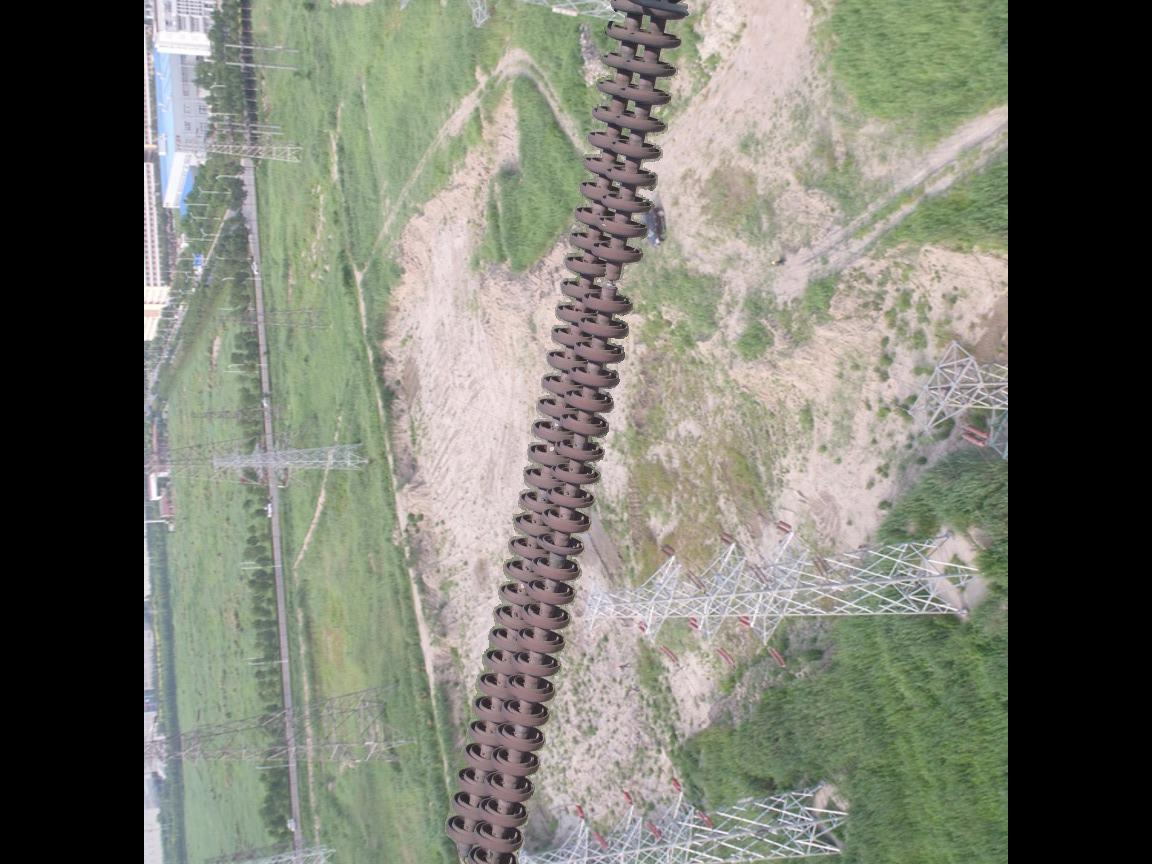insulator: (444, 1, 693, 864)
insulator_stringdrop: (577, 241, 644, 319)
